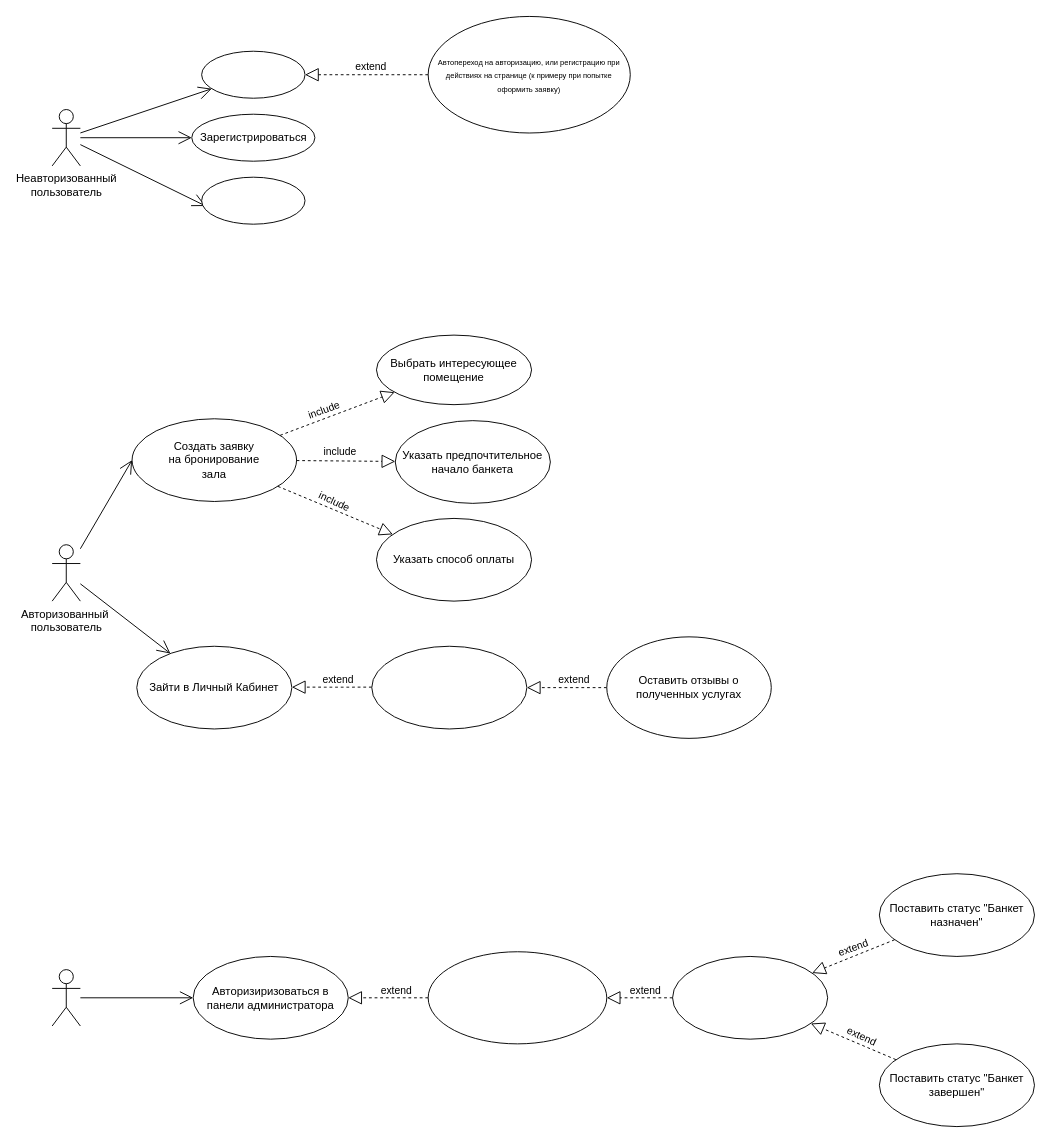
The diagram is 1051 pixels wide and 1143 high, and some of its shapes have lost their labels. The box of each missing label's shape, as (x1, y1, x2, y2) in pixels:
Авторизоваться: (201, 176, 305, 224)
Администратор: (51, 969, 80, 1026)
Поменять статус заявок: (672, 956, 828, 1039)
Просмотреть все заявки: (427, 951, 607, 1044)
Просмотреть историю о своих заявках: (371, 645, 527, 729)
Просмотреть страницу: (201, 50, 305, 98)
